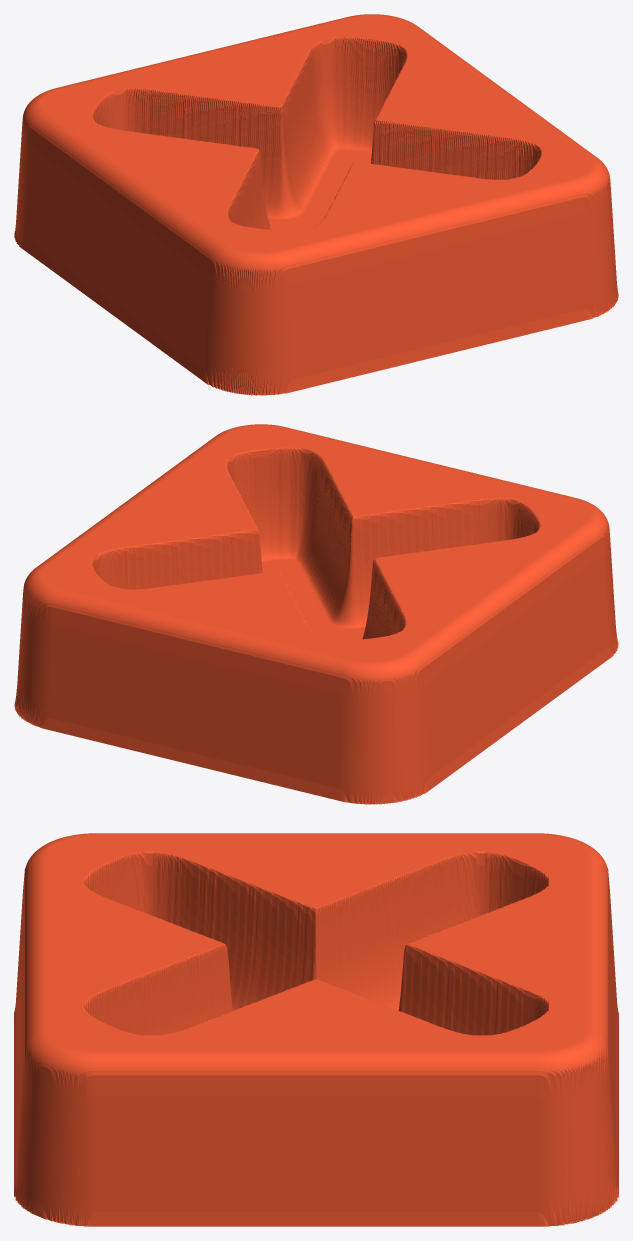
File: mold.glb
3 renders of one model, top to bottom at view 1: azimuth 30°, elevation 25°; view 2: azimuth 150°, elevation 25°; view 3: azimuth 270°, elevation 25°, orthographic. The views are drawn at different scales.
Visible parts, largest first — view 1: geometry_0; view 2: geometry_0; view 3: geometry_0.
Boxes of the visible parts, x1,y1,x2,y2 form: geometry_0: (14, 14, 618, 395); geometry_0: (14, 424, 618, 804); geometry_0: (14, 833, 618, 1226).
Size of the model in its own units: 0.0638 by 0.0197 by 0.067.
